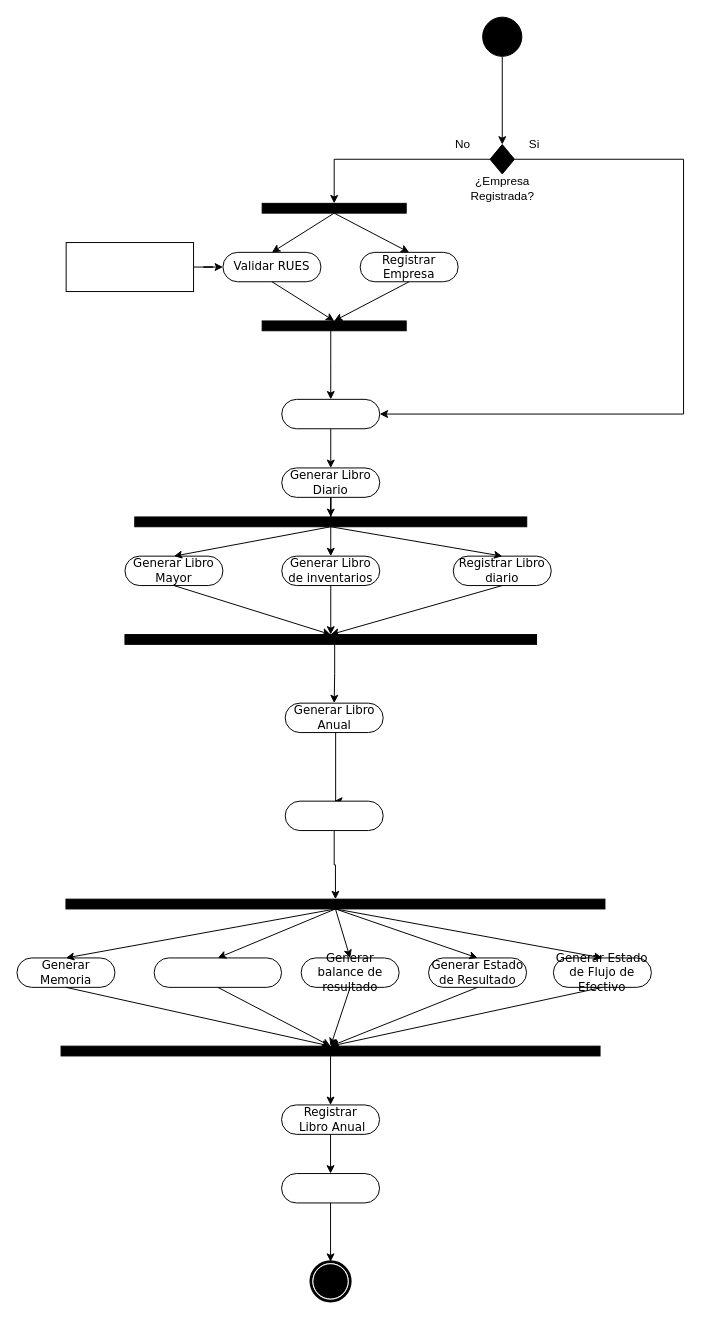
Some shapes in this 710 by 1318 pixel diagram are drawn without their labels. The centre of each missing label's shape, as x and y in pixels:
"Camara de Comercio" belongs at (x=129, y=267).
"Generaar Estado de Cambio de Patrimonio" belongs at (x=217, y=972).
"Ingresar al Sistema" belongs at (x=330, y=413).
"Registrar libro de Inventario" belongs at (x=333, y=815).
"Registrar Libro en Base de Datos" belongs at (x=330, y=1188).
